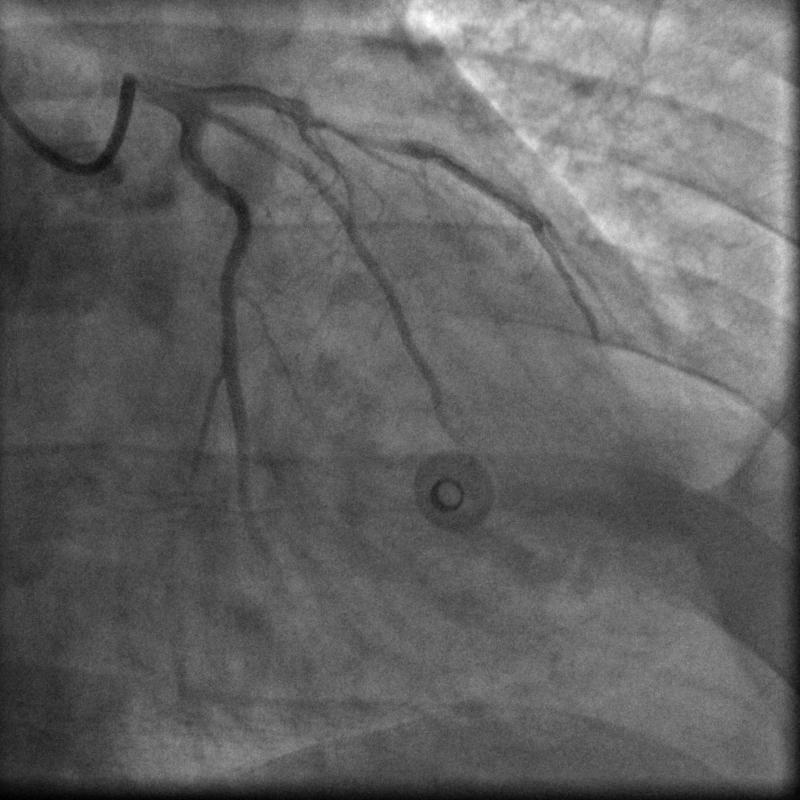Stenosis: (312, 121, 405, 151)
